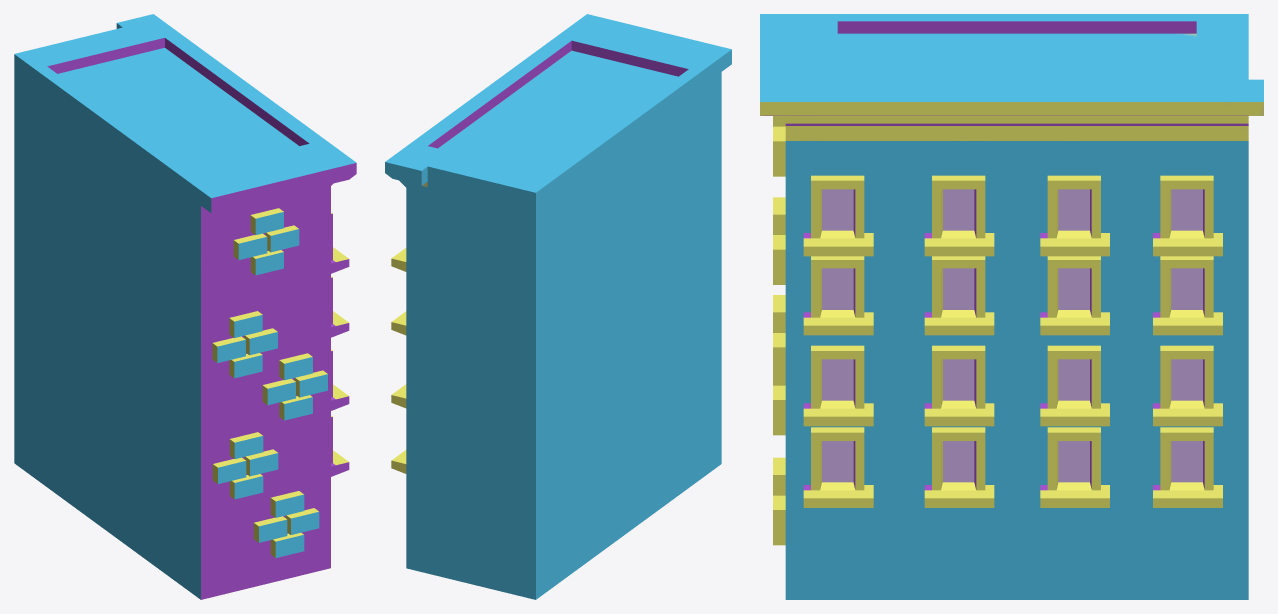
File: SINGLE BUILDING5.fbx
3 views of the same model, side by side, from view 1: azimuth 30°, elevation 25°; view 2: azimuth 150°, elevation 25°; view 3: azimuth 270°, elevation 25° (orthographic). The views are drawn at different scales.
Parts seen in each view (by area): view 1: Cube.025, Cube.009, Cube.013, Cube.044, Cube.014, Cube.010, Cube.001, Cube.005, Cube.031, Cube.006, Cube.002, Cube.045 (+9 smaller); view 2: Cube.025; view 3: Cube.025, Cube.026, Cube.050, Cube.047, Cube.051, Cube.021, Cube.023, Cube.017, Cube.019, Cube.052, Cube.053, Cube.020 (+5 smaller).
Part boxes in pixels (x1,y1,x2,y2): Cube.025: (14,14,356,599); Cube.009: (229,432,263,458); Cube.013: (270,491,304,517); Cube.044: (233,233,267,259); Cube.014: (253,516,287,542); Cube.010: (212,457,246,483); Cube.001: (229,311,262,337); Cube.005: (279,353,312,380); Cube.031: (250,208,283,235); Cube.006: (262,378,295,405); Cube.002: (212,336,245,362); Cube.045: (265,225,299,252); Cube.025: (385,14,731,599); Cube.025: (760,14,1263,599); Cube.026: (803,175,873,256); Cube.050: (803,345,873,426); Cube.047: (924,175,994,256); Cube.051: (924,345,994,426); Cube.021: (1153,175,1222,256); Cube.023: (1153,345,1222,426); Cube.017: (1040,175,1109,256); Cube.019: (1040,345,1109,426); Cube.052: (803,427,873,507); Cube.053: (924,427,994,507); Cube.020: (1040,427,1109,507).
Bounding box in the file's own units: 239 × 601 × 541.
1 material, 1 textured.
